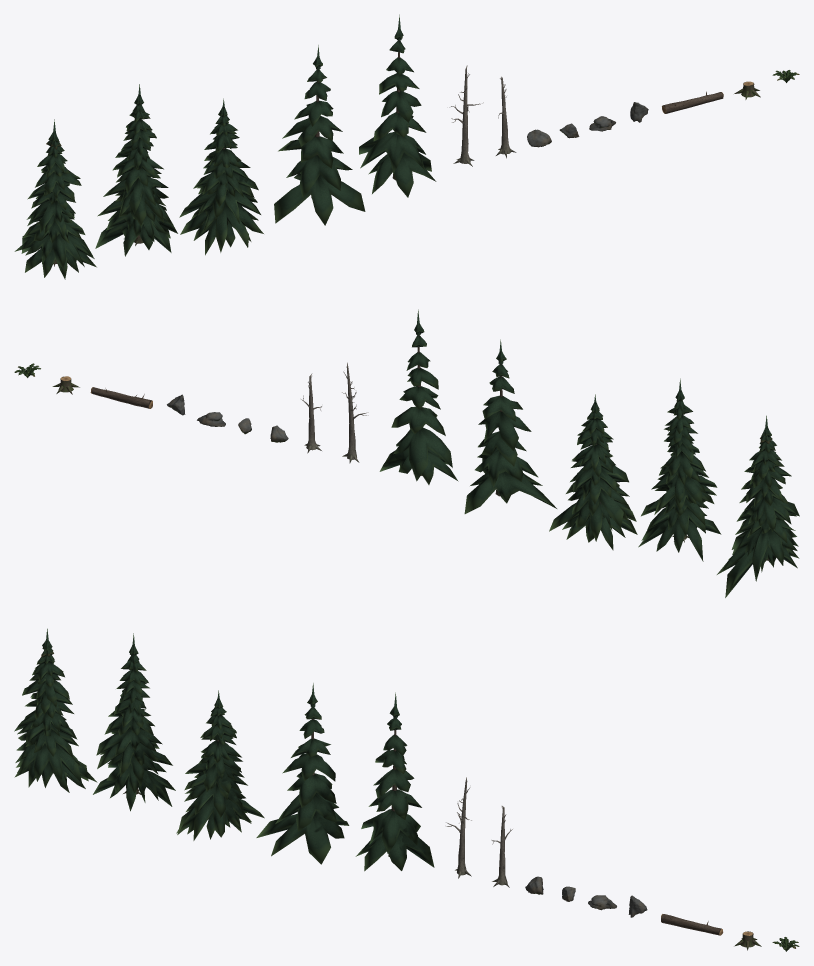
The model's file is EnvModels.fbx.
The picture shows the model from 3 angles, top to bottom: view 1: azimuth 30°, elevation 25°; view 2: azimuth 150°, elevation 25°; view 3: azimuth 330°, elevation 25°; orthographic projection.
Parts seen in each view (by area): view 1: Spruce2, SpruceFar1, Spruce3, Spruce1, SpruceFar2, DeadTree1, Log1, DeadTree2; view 2: Spruce1, Spruce2, Spruce3, SpruceFar1, SpruceFar2, DeadTree1, Log1; view 3: Spruce2, Spruce1, SpruceFar1, Spruce3, SpruceFar2, DeadTree1.
Boxes of the visible parts, x1,y1,x2,y2 form: Spruce2: (95, 84, 177, 256); SpruceFar1: (274, 45, 365, 225); Spruce3: (179, 98, 263, 255); Spruce1: (14, 119, 96, 279); SpruceFar2: (359, 14, 436, 197); DeadTree1: (449, 65, 483, 166); Log1: (662, 91, 723, 113); DeadTree2: (496, 76, 516, 158); Spruce1: (717, 415, 799, 597); Spruce2: (638, 378, 721, 561); Spruce3: (549, 394, 637, 550); SpruceFar1: (464, 339, 556, 513); SpruceFar2: (379, 309, 458, 484); DeadTree1: (342, 362, 368, 463); Log1: (90, 387, 152, 408); Spruce2: (93, 633, 175, 811); Spruce1: (14, 628, 97, 792); SpruceFar1: (256, 683, 349, 864); Spruce3: (176, 690, 264, 840); SpruceFar2: (355, 692, 434, 871); DeadTree1: (446, 777, 471, 878).
Bounding box in the file's own units: 81.54 × 18.95 × 9.14.
14 materials, 14 textured.
